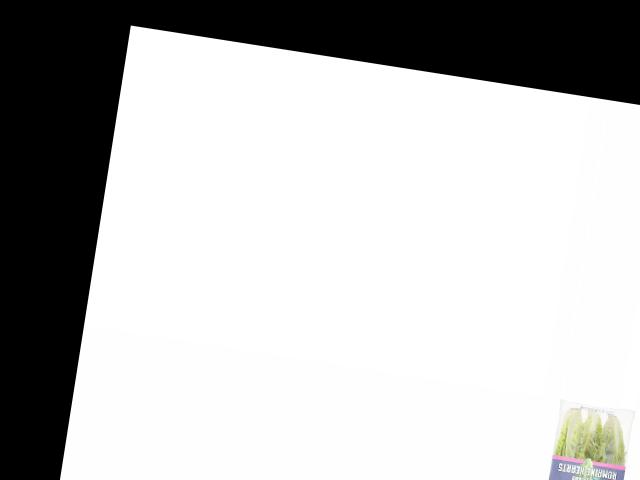lettuce: (539, 401, 639, 480)
